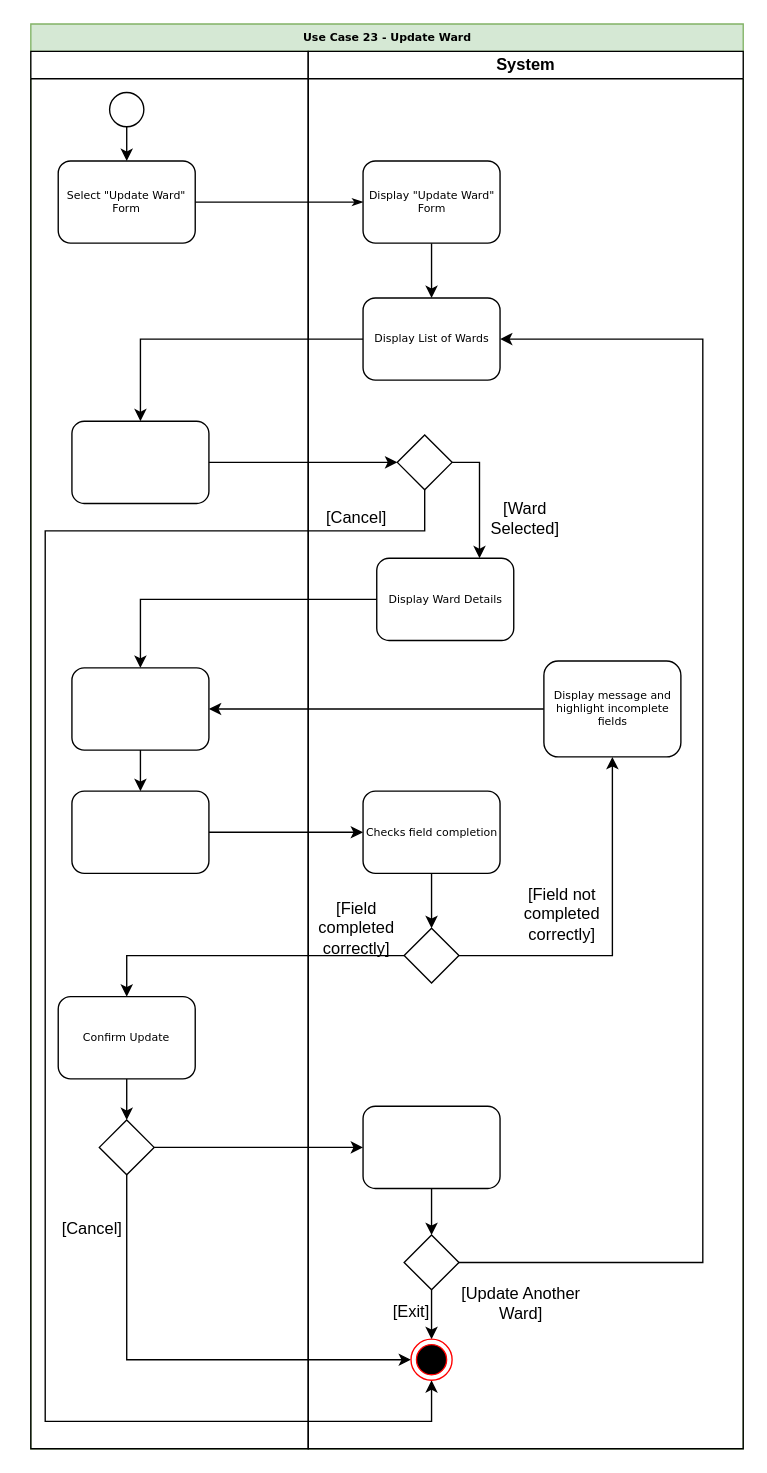
Some shapes in this 767 by 1473 pixel diagram are drawn without their labels. The box of each missing label's shape, as (x1, y1, x2, y2) in pixels:
Click on "Update Ward" Button: (71, 790, 209, 873)
Facilities Administrator: (29, 50, 308, 1449)
Modify Ward Details: (71, 667, 209, 750)
Save Update: (362, 1105, 500, 1188)
Select Option: (71, 420, 209, 503)
